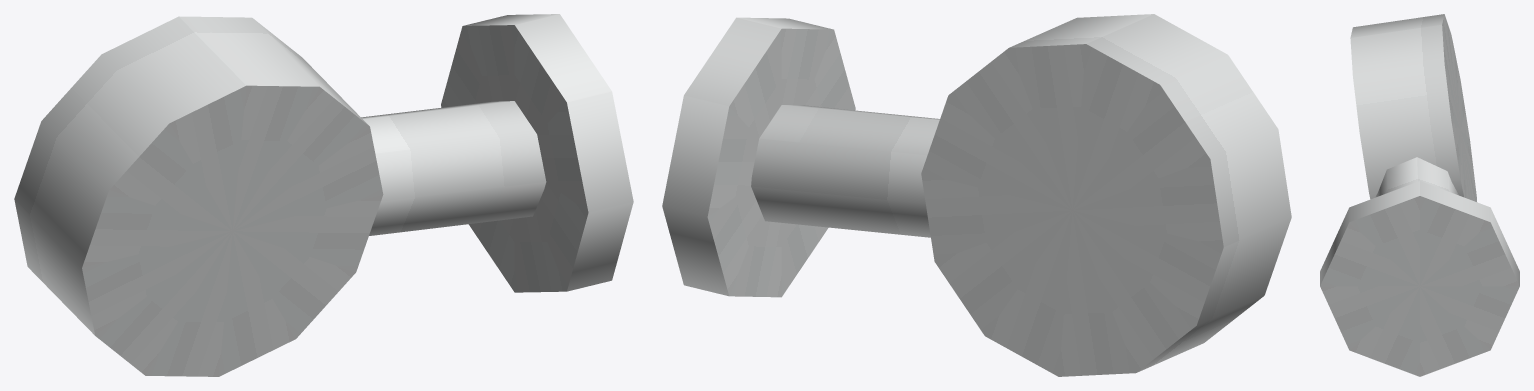
The model's file is trusssignalarm_stub_101.obj.
3 renders of one model, left to right at view 1: azimuth 30°, elevation 25°; view 2: azimuth 150°, elevation 25°; view 3: azimuth 270°, elevation 25°, orthographic. The views are drawn at different scales.
Parts seen in each view (by area): view 1: trusssignalarm_stub_101; view 2: trusssignalarm_stub_101; view 3: trusssignalarm_stub_101.
Part boxes in pixels (x1,y1,x2,y2): trusssignalarm_stub_101: (14,14,633,376); trusssignalarm_stub_101: (662,14,1291,376); trusssignalarm_stub_101: (1320,14,1519,376).
Size of the model in its own units: 0.7056 by 0.4476 by 0.35.
